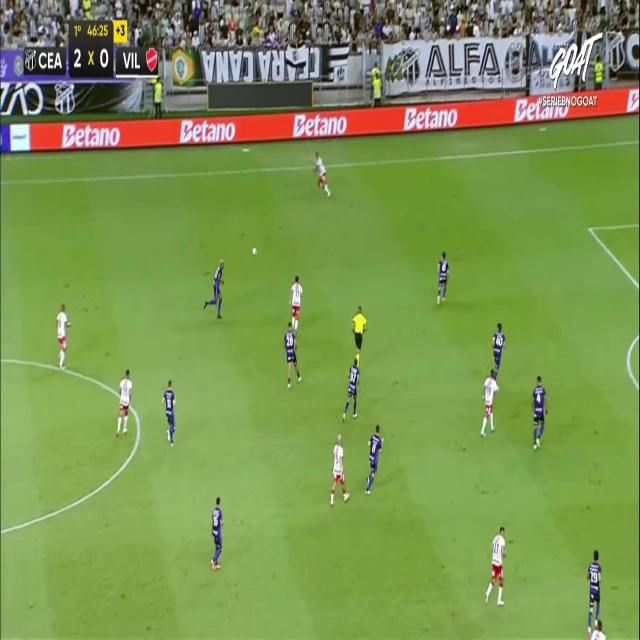ball: (252, 247, 256, 255)
player: (485, 526, 507, 606), (330, 433, 350, 506), (365, 424, 384, 494), (203, 259, 225, 318), (587, 549, 602, 635), (480, 368, 498, 436), (531, 374, 547, 450), (284, 321, 302, 388), (342, 356, 360, 422), (116, 368, 132, 436), (210, 496, 224, 570), (56, 302, 71, 368), (162, 379, 176, 446), (492, 322, 506, 383), (289, 275, 303, 333), (314, 151, 330, 198), (437, 251, 449, 303)
referee: (351, 304, 367, 367)
